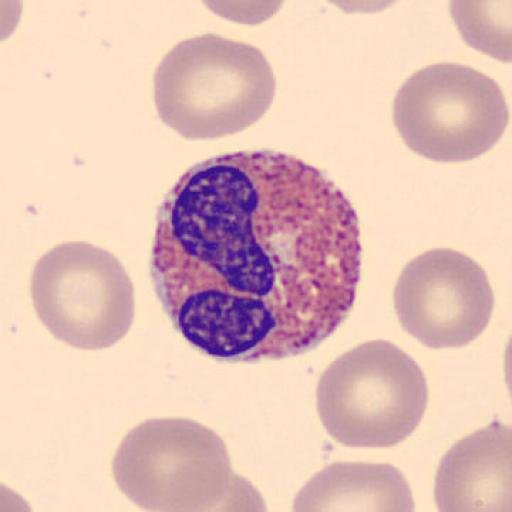RBC: (150, 31, 278, 142), (314, 336, 428, 450), (390, 60, 509, 166), (28, 238, 137, 352), (110, 414, 233, 512), (391, 246, 496, 352), (432, 420, 512, 512), (288, 458, 416, 512), (151, 465, 267, 512), (446, 0, 512, 65), (181, 469, 269, 512), (196, 0, 292, 27), (317, 0, 413, 17), (1, 478, 39, 512), (0, 0, 26, 48), (502, 320, 512, 430)
WBC: (145, 155, 367, 363)
